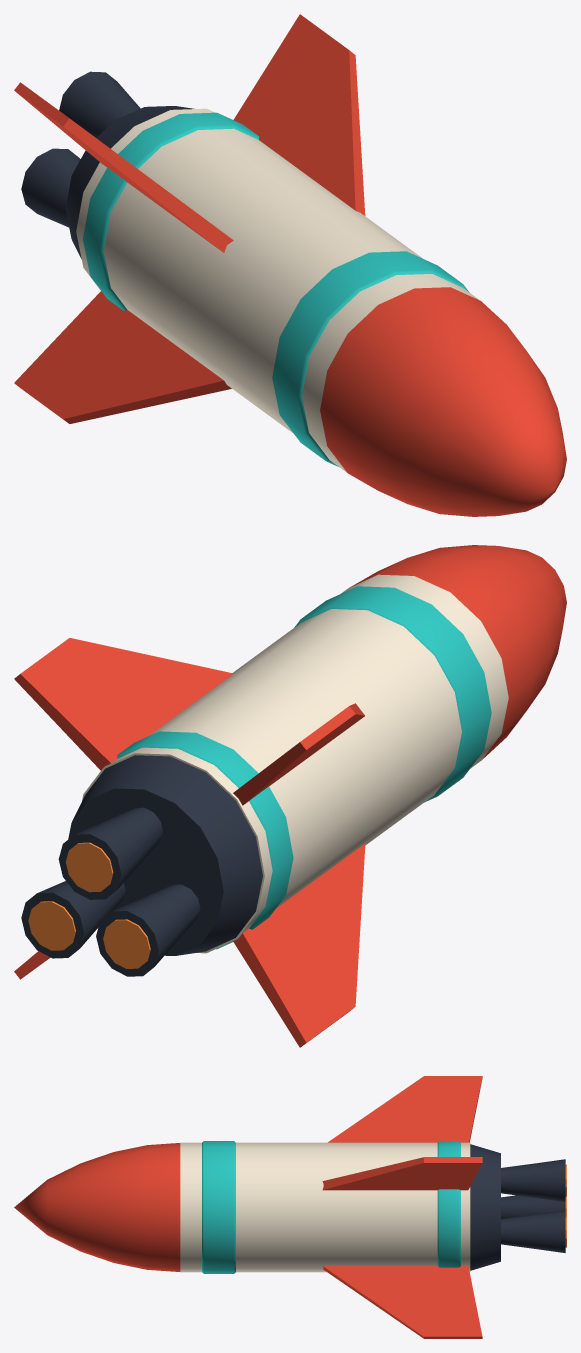
File: FoguetePlaceholder.fbx
3 renders of one model, top to bottom at view 1: azimuth 30°, elevation 25°; view 2: azimuth 150°, elevation 25°; view 3: azimuth 270°, elevation 25°, orthographic. The views are drawn at different scales.
Visible parts, largest first — view 1: Corpo, Ponta, Aletas, Motores; view 2: Corpo, Motores, Aletas, Ponta; view 3: Corpo, Aletas, Ponta, Motores.
Part boxes in pixels (<box>): Corpo: <box>76,108,479,472</box>; Ponta: <box>320,287,566,516</box>; Aletas: <box>14,14,365,423</box>; Motores: <box>21,71,194,258</box>; Corpo: <box>82,574,508,953</box>; Motores: <box>21,755,262,976</box>; Aletas: <box>14,638,365,1047</box>; Ponta: <box>349,545,566,760</box>; Corpo: <box>180,1141,470,1273</box>; Aletas: <box>322,1076,482,1338</box>; Ponta: <box>14,1143,180,1271</box>; Motores: <box>470,1144,566,1270</box>.
Bounding box in the file's own units: 3.25 × 3.25 × 8.97.
